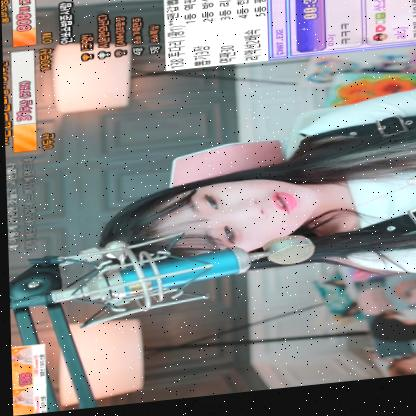donation: (8, 345, 43, 390), (9, 386, 44, 416)
streamer: (92, 95, 416, 312)
